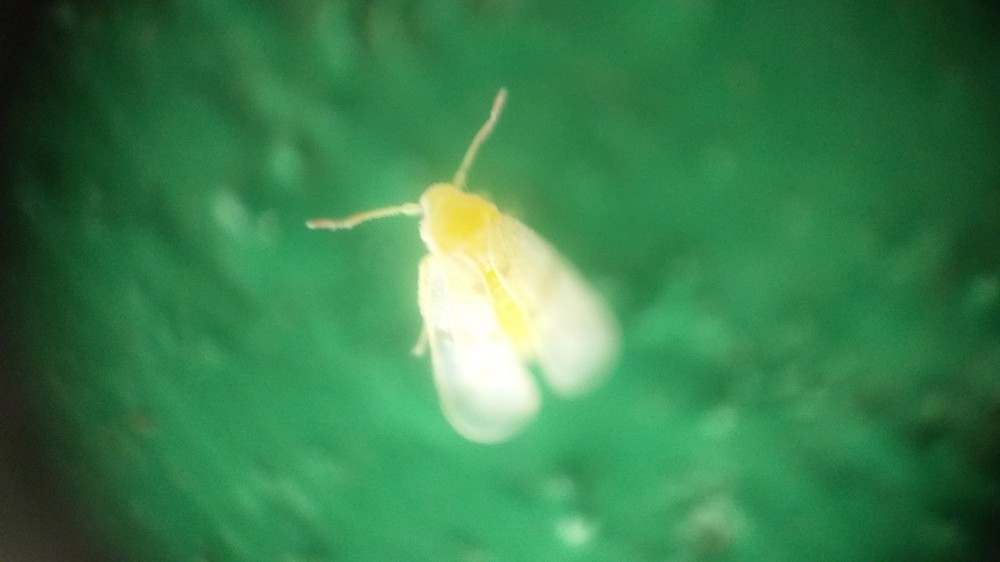Mosca Blanca: (295, 77, 674, 488)
